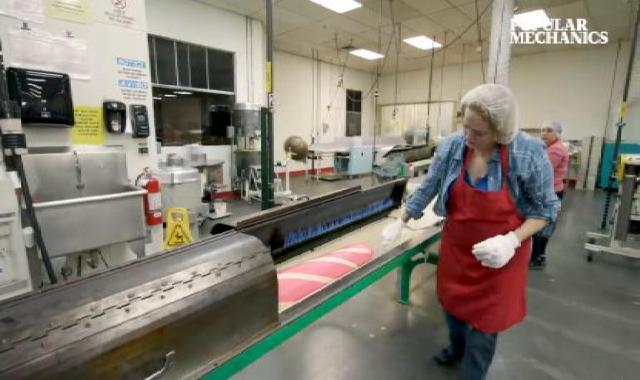hairnet: (457, 84, 518, 148), (539, 118, 568, 135)
